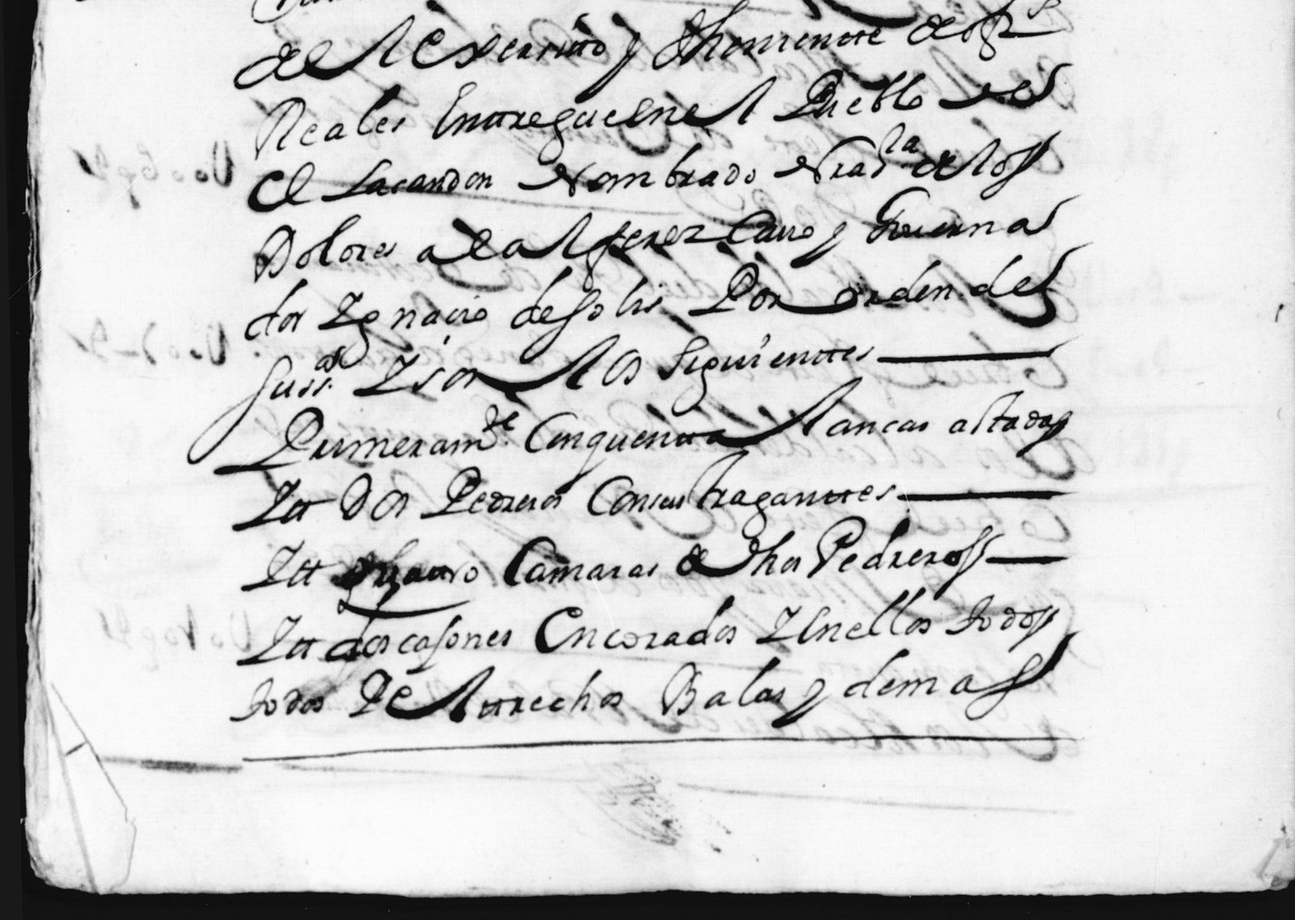lacandon: (320, 158, 492, 202)
